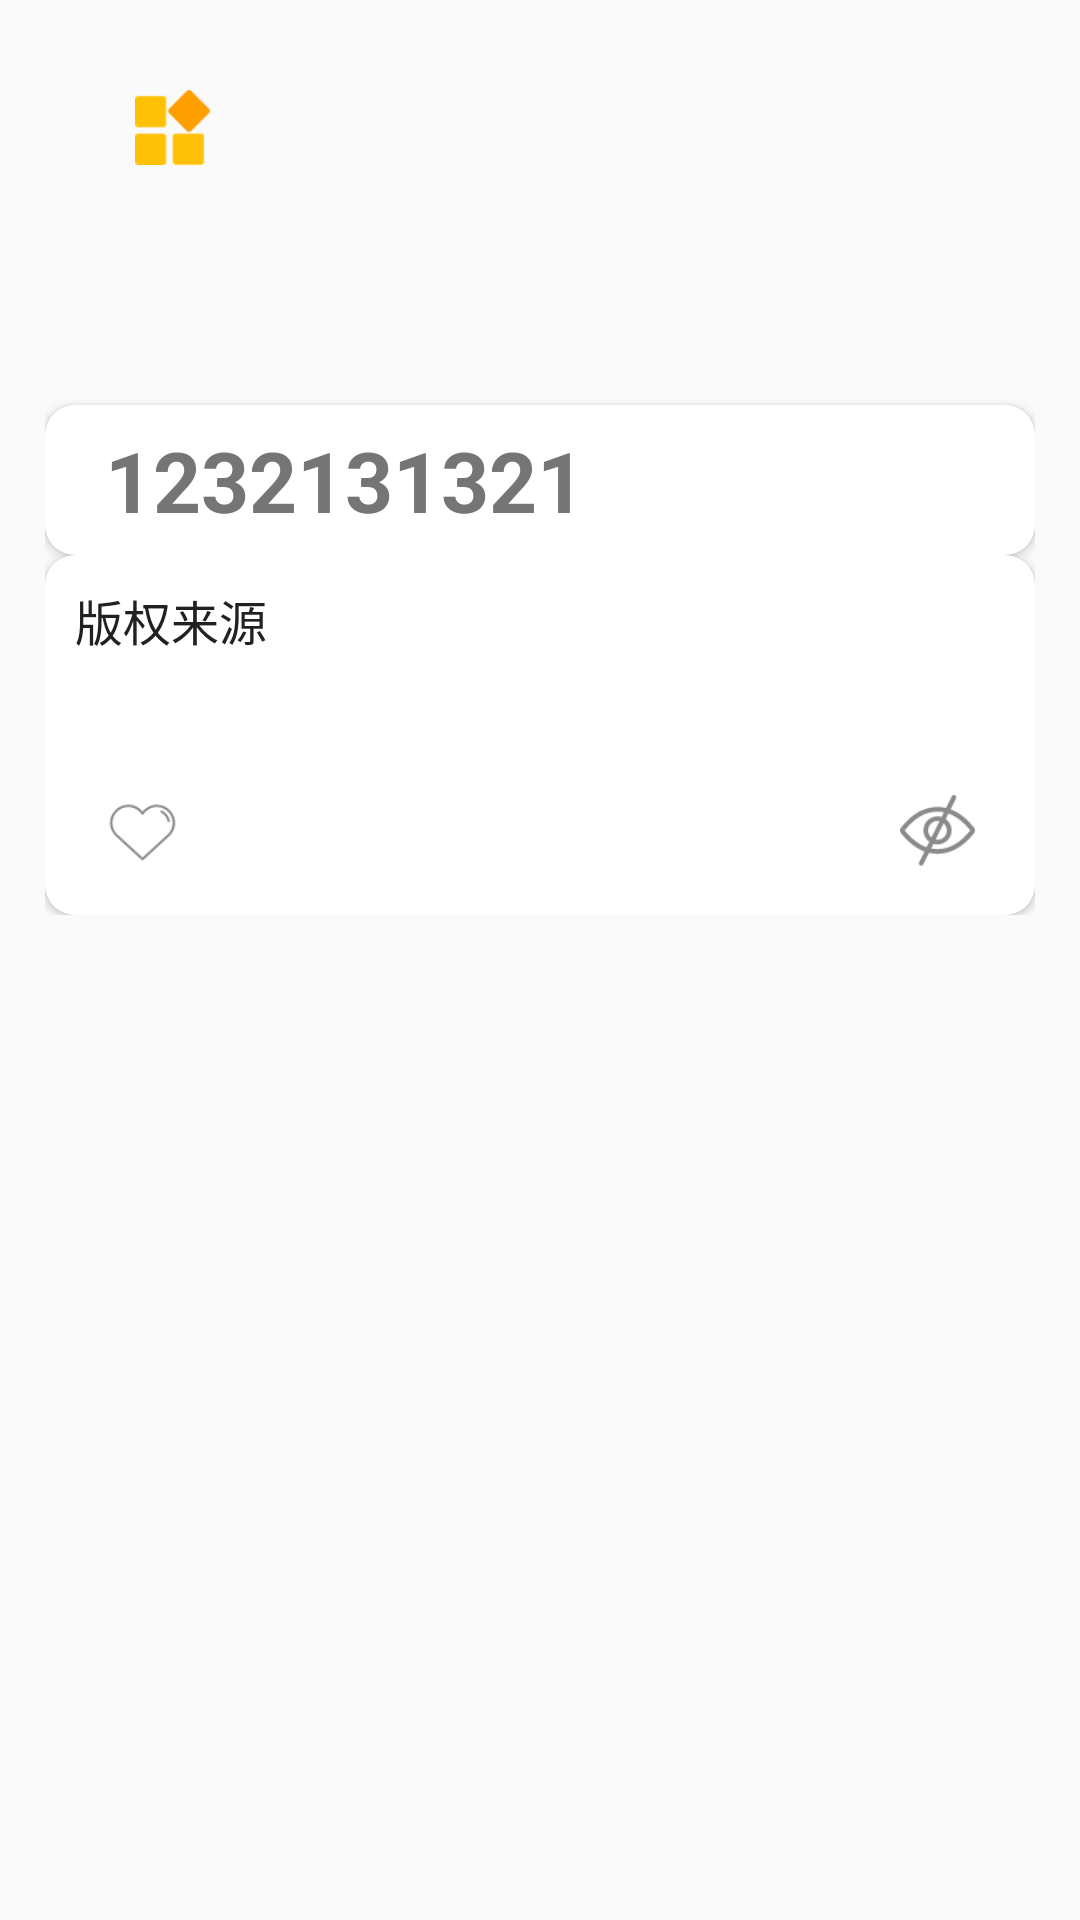

Point at icon controls on the screen. Image size 1080px x 1920px, points as (x=x, y=y).
menu: (x=172, y=127)
shoucang: (x=142, y=832)
yincang: (x=937, y=830)
